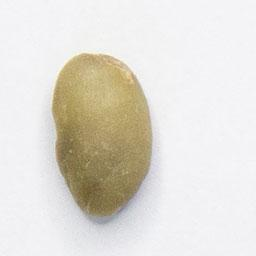longberry: (47, 48, 157, 220)
